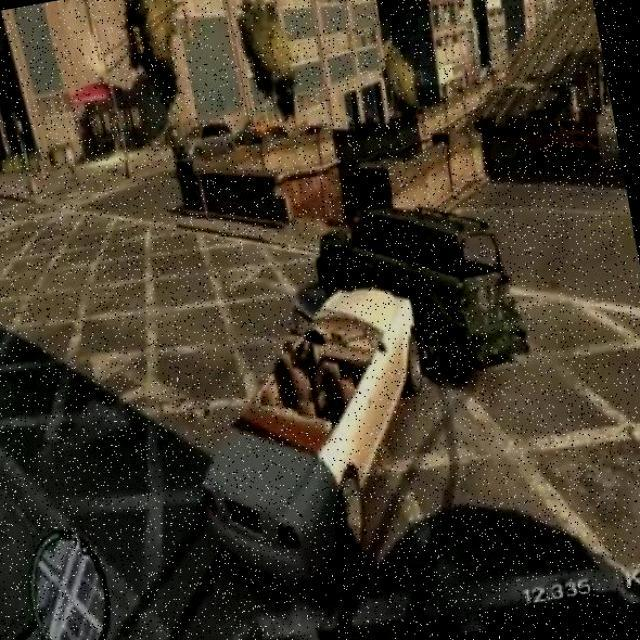accident: (273, 198, 498, 437)
